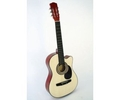guitar: (44, 1, 79, 99)
